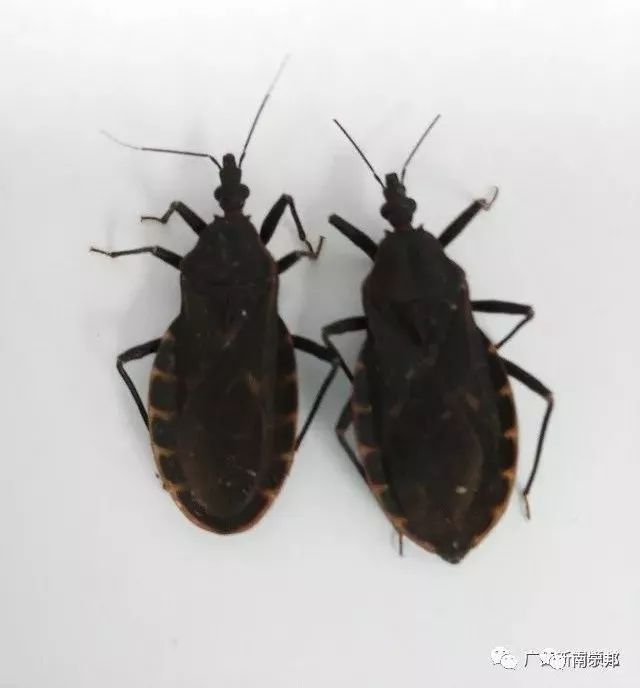chunchong: (322, 162, 553, 565), (97, 158, 321, 543)
